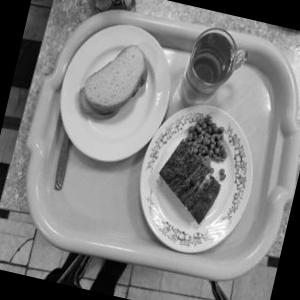bread: (69, 33, 159, 129)
casserole: (137, 106, 248, 230)
tea: (170, 20, 258, 114)
